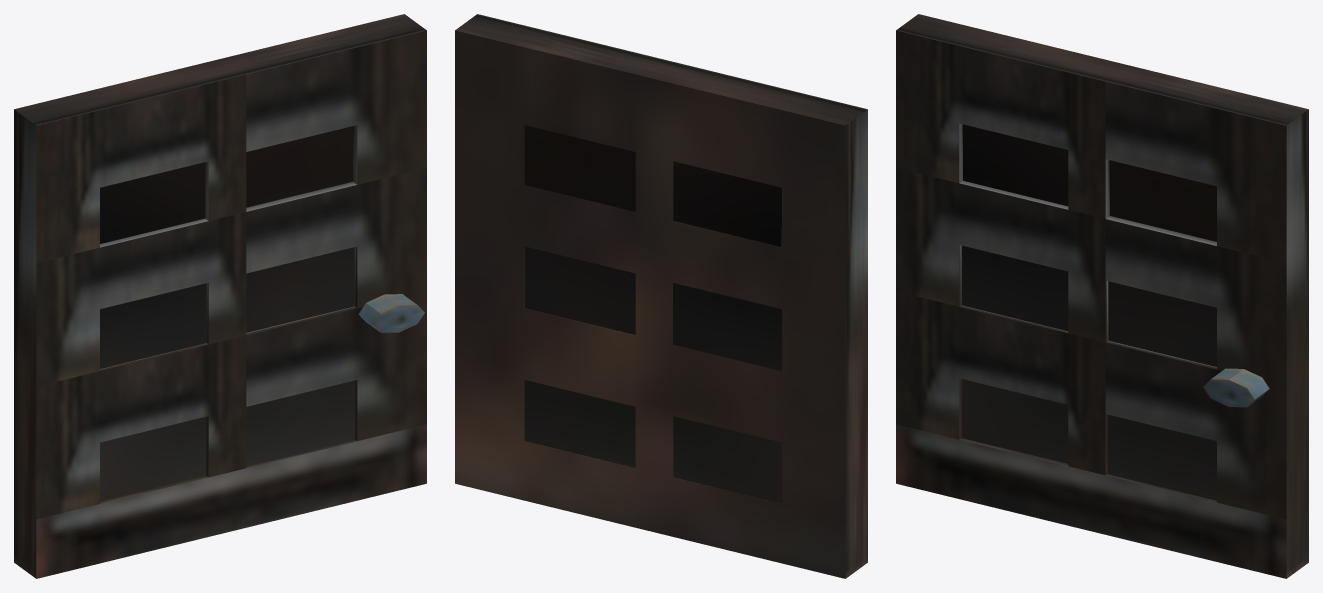
Rendered from PuertaAnimada1.obj.
3 views of the same model, side by side, from view 1: azimuth 30°, elevation 25°; view 2: azimuth 150°, elevation 25°; view 3: azimuth 330°, elevation 25° (orthographic).
Visible parts, largest first — view 1: PuertaAnimada5:Puerta2; view 2: PuertaAnimada5:Puerta2; view 3: PuertaAnimada5:Puerta2.
Part boxes in pixels (left/top/right/bottom): PuertaAnimada5:Puerta2: left=14, top=14, right=426, bottom=578; PuertaAnimada5:Puerta2: left=455, top=14, right=867, bottom=578; PuertaAnimada5:Puerta2: left=896, top=14, right=1308, bottom=578.
Bounding box in the file's own units: 1.81 × 2.01 × 0.3011.
Materials: 1 (1 with a texture image).
